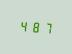eight: (30, 19, 40, 34)
four: (18, 18, 28, 33)
seven: (41, 20, 51, 35)
